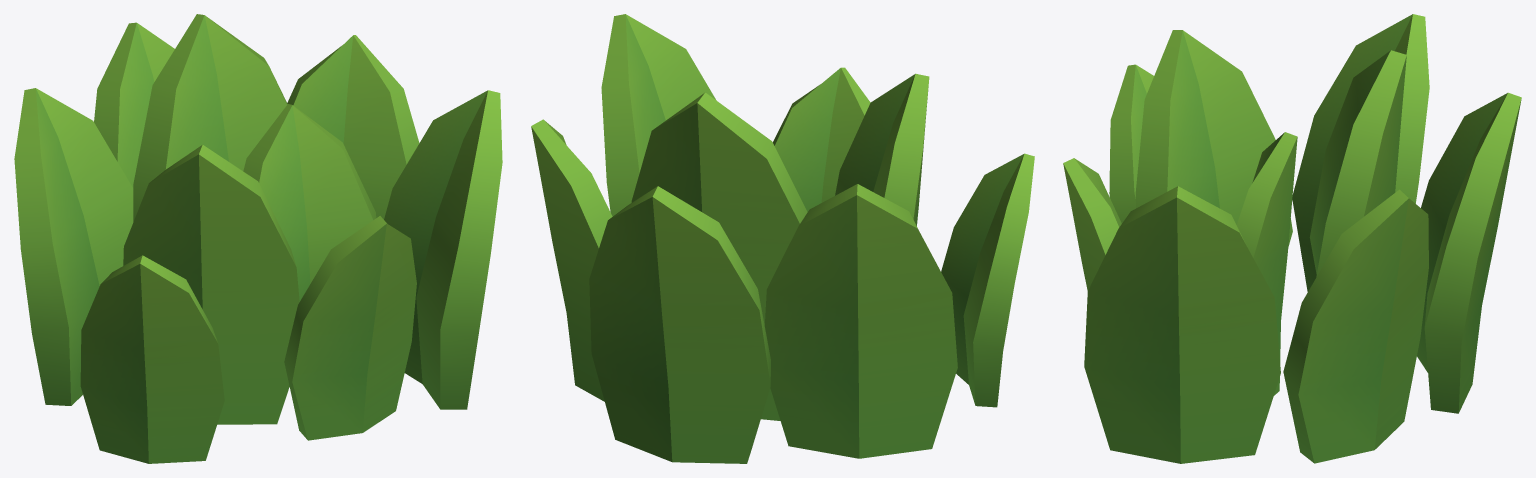
The model's file is Grass1C.glb.
3 views of the same model, side by side, from view 1: azimuth 30°, elevation 25°; view 2: azimuth 150°, elevation 25°; view 3: azimuth 270°, elevation 25° (orthographic). The views are drawn at different scales.
Visible parts, largest first — view 1: Grass_1_C_Color1; view 2: Grass_1_C_Color1; view 3: Grass_1_C_Color1.
Boxes of the visible parts, x1=… form: Grass_1_C_Color1: x1=14, y1=14, x2=502, y2=463; Grass_1_C_Color1: x1=531, y1=14, x2=1034, y2=463; Grass_1_C_Color1: x1=1063, y1=14, x2=1521, y2=463.
Size of the model in its own units: 0.7518 by 0.5834 by 0.7171.
1 material, 1 textured.
